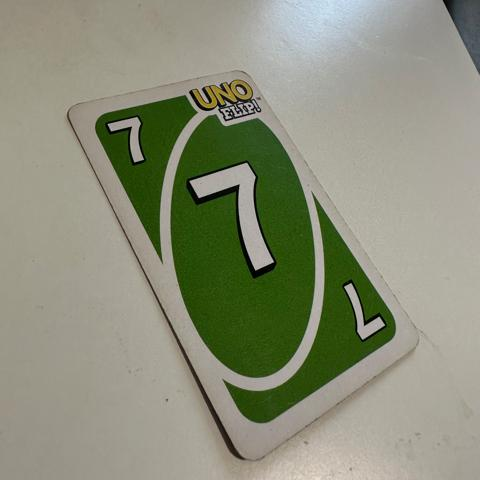skip_green: (187, 160, 280, 277), (342, 279, 385, 341), (109, 116, 145, 164)
